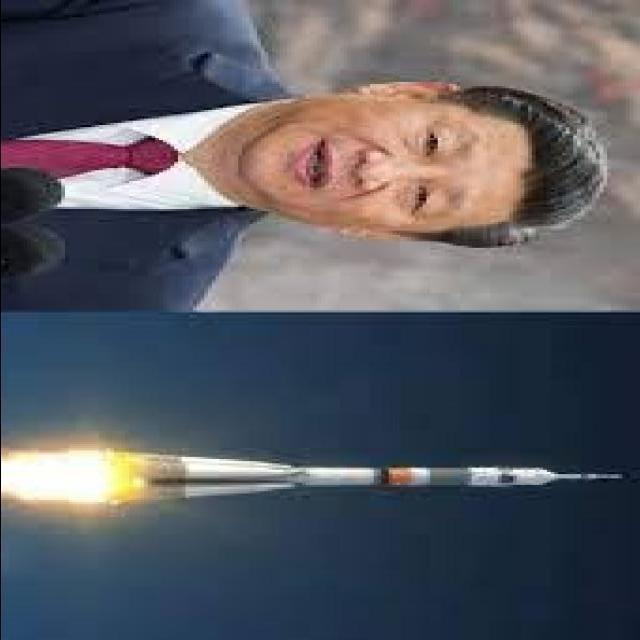Missile: (255, 450, 562, 505)
